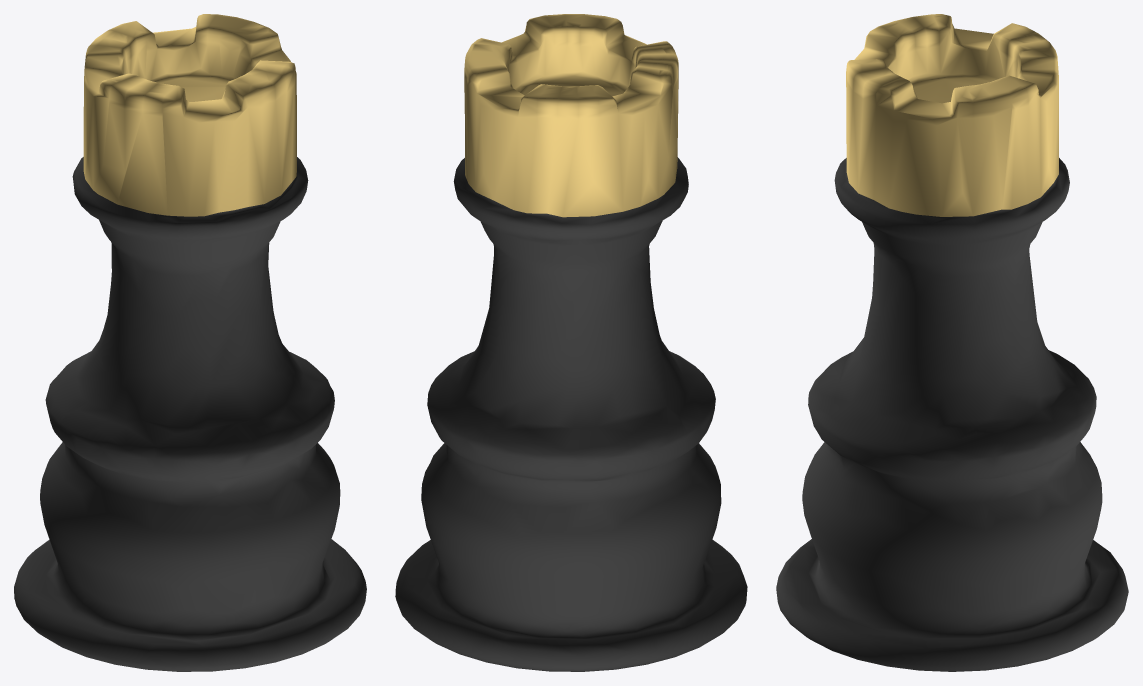
Rendered from gercek7_r_b.glb.
3 views of the same model, side by side, from view 1: azimuth 30°, elevation 25°; view 2: azimuth 150°, elevation 25°; view 3: azimuth 270°, elevation 25° (orthographic).
Parts seen in each view (by area): view 1: r_b; view 2: r_b; view 3: r_b.
Part boxes in pixels (bbox=[...]): r_b: bbox=[14, 14, 366, 671]; r_b: bbox=[395, 14, 747, 671]; r_b: bbox=[776, 14, 1128, 671].
Size of the model in its own units: 0.5203 by 0.9 by 0.52.
